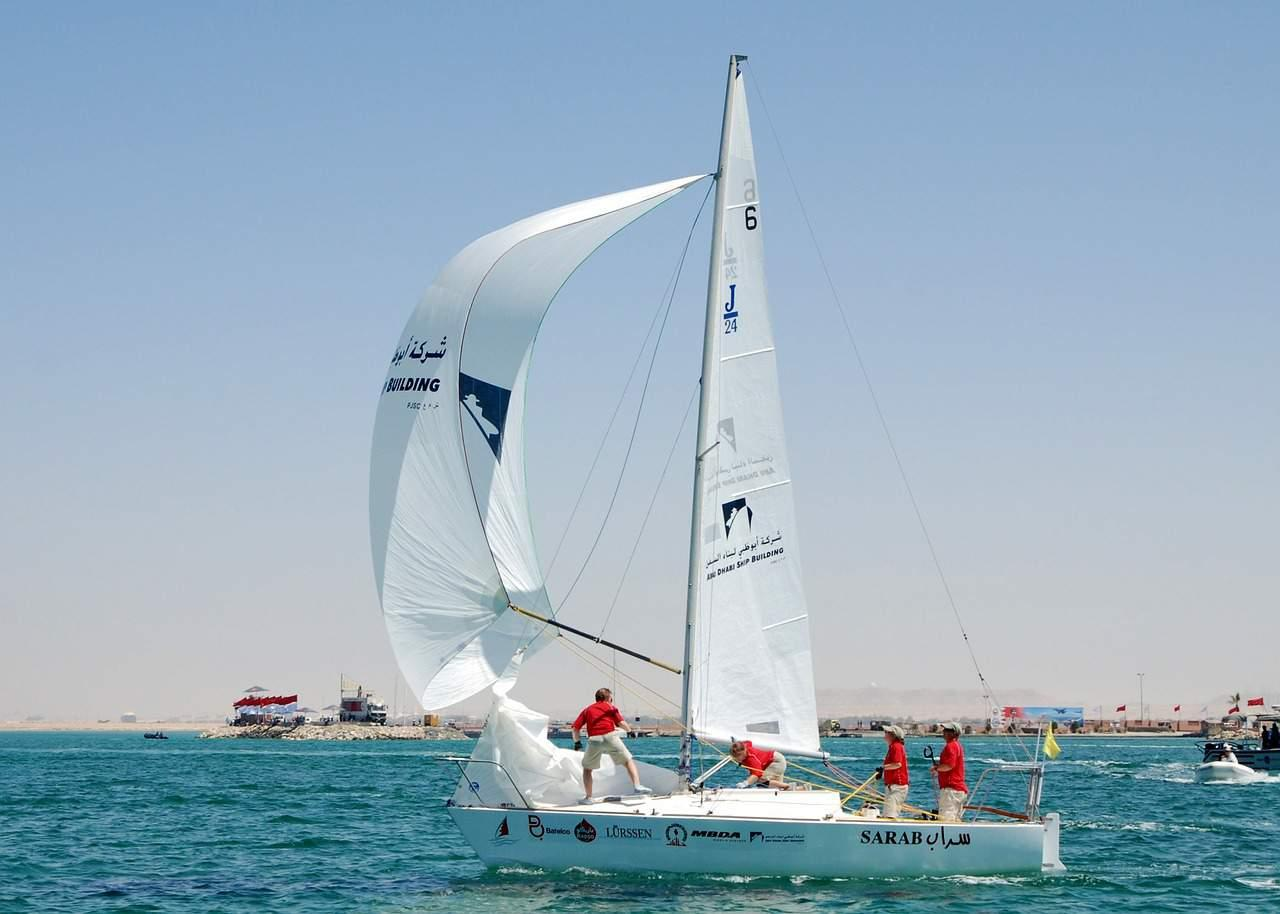Ship: (365, 53, 1067, 878)
